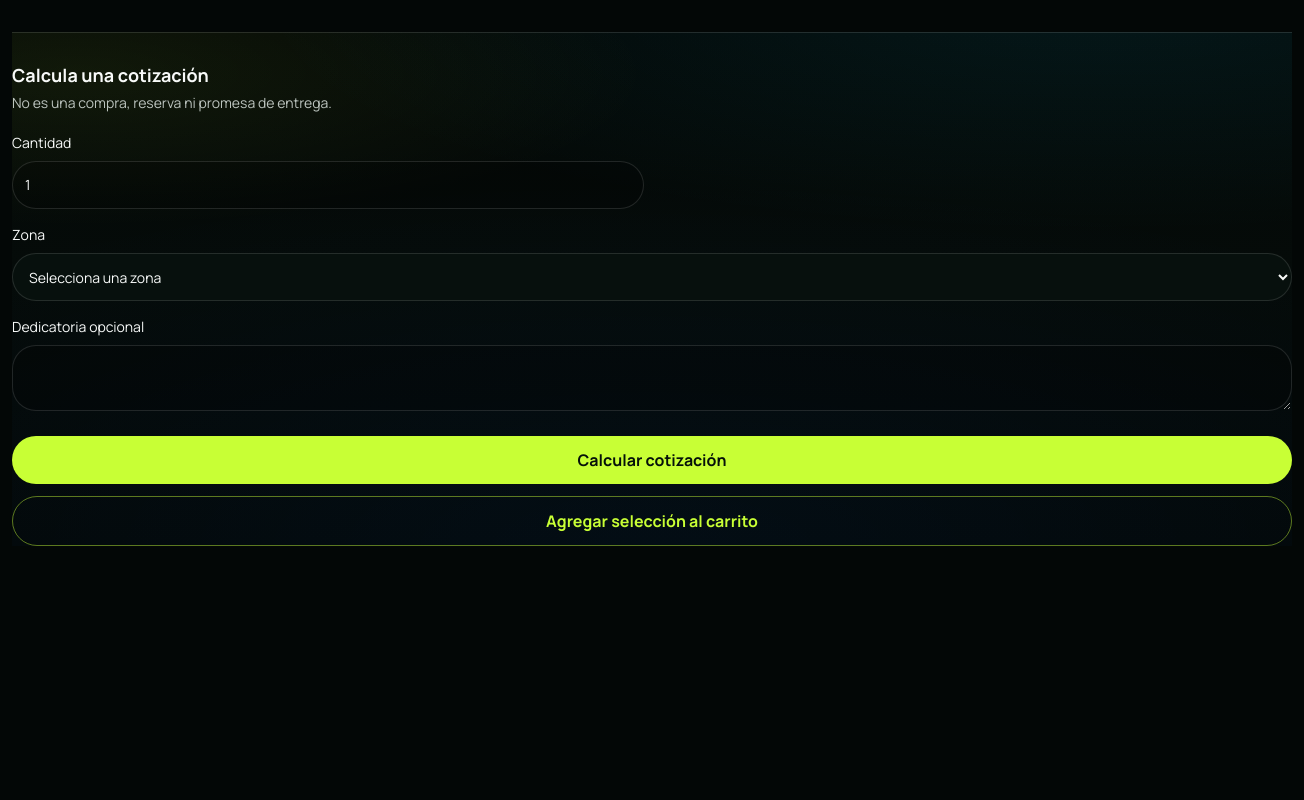
Test: quote calculator › does not render a network error as zero
Click the button "Calcular cotización". click: [652, 460]
box: top-left (12, 436), bottom-right (1292, 484)
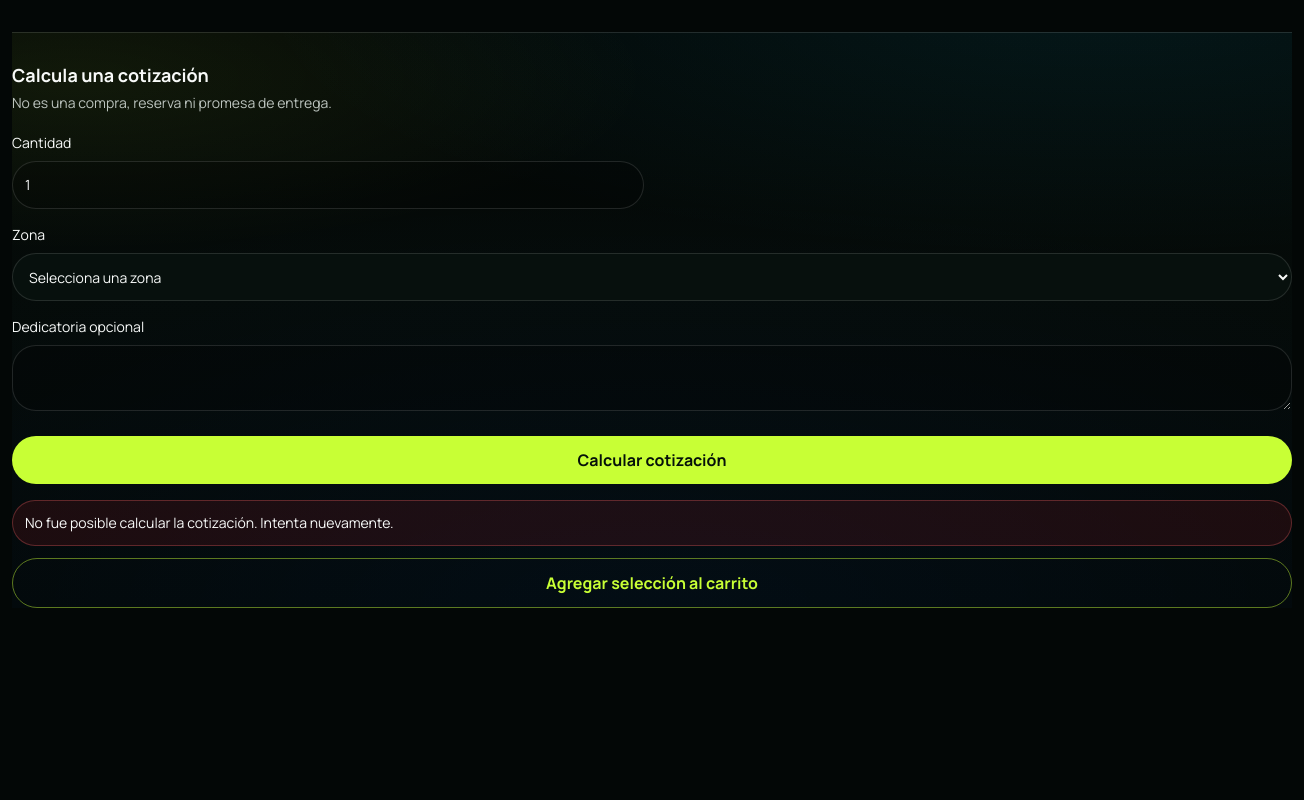
Check: the message does not show "Sin red", box top-left (12, 500), bottom-right (1292, 546)
Check: the message shows "No fue posible calcular la cotización", box top-left (25, 513), bottom-right (394, 532)
